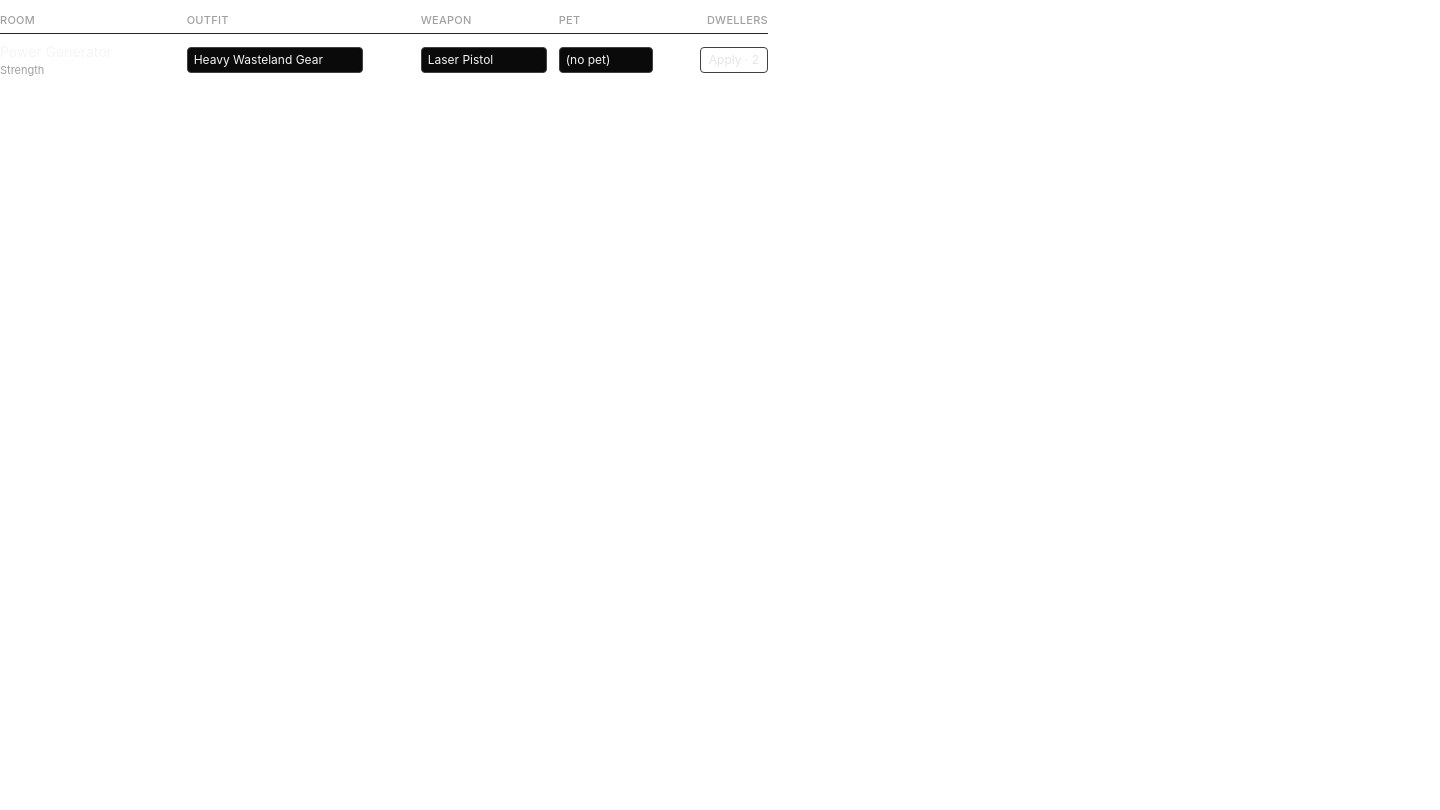
Test: LoadoutPanel - searchable pickers › opens the outfit picker with the Σ SPECIAL stat column and selects a different outfit
Click the button with aria-label "Power Generator outfit": click(275, 60) [187,47,363,73]
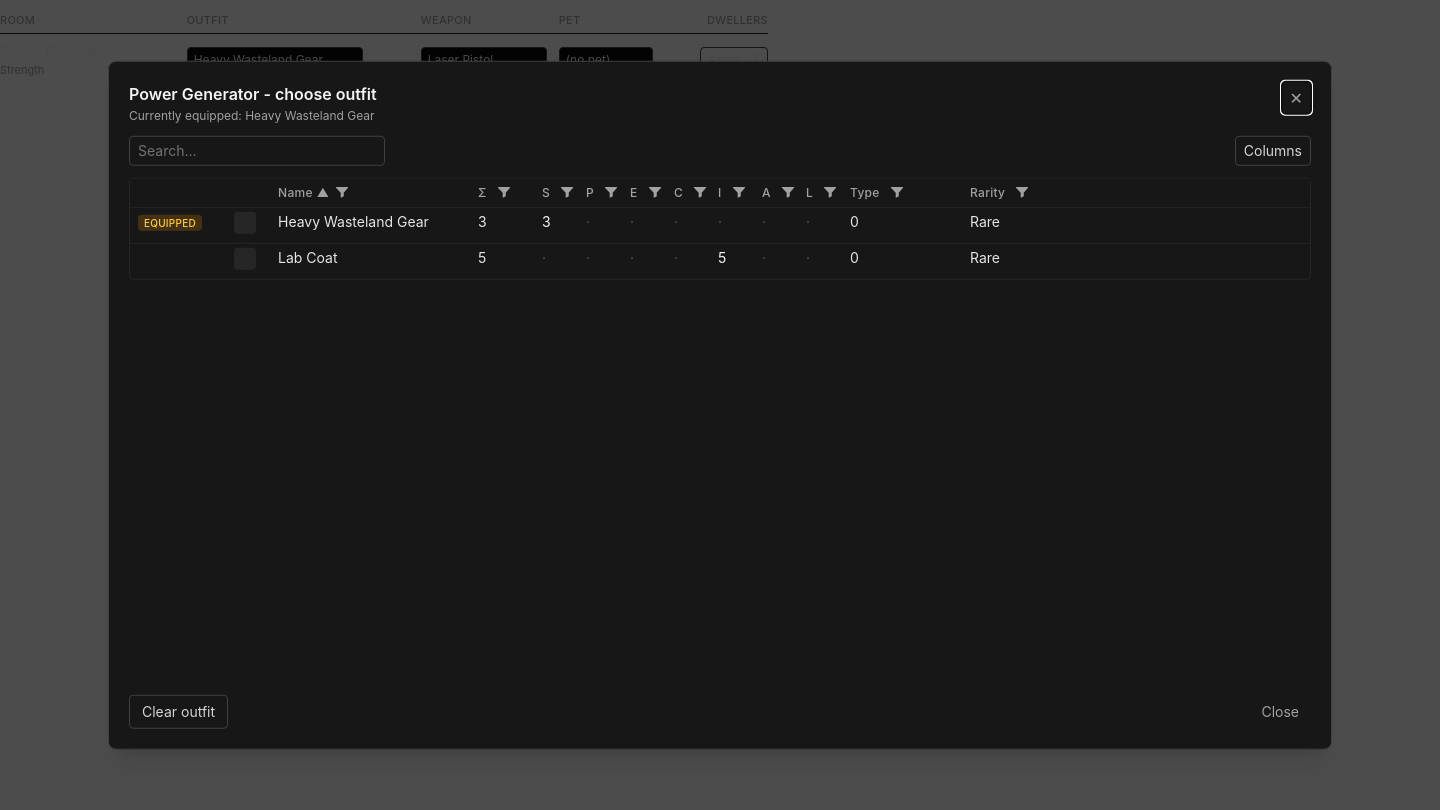
expect the button "Σ" is shown: met, box [478,185,491,201]
expect the text "Lab Coat" is shown: met
Click the text "Lab Coat": click(308, 257) [278,249,338,266]
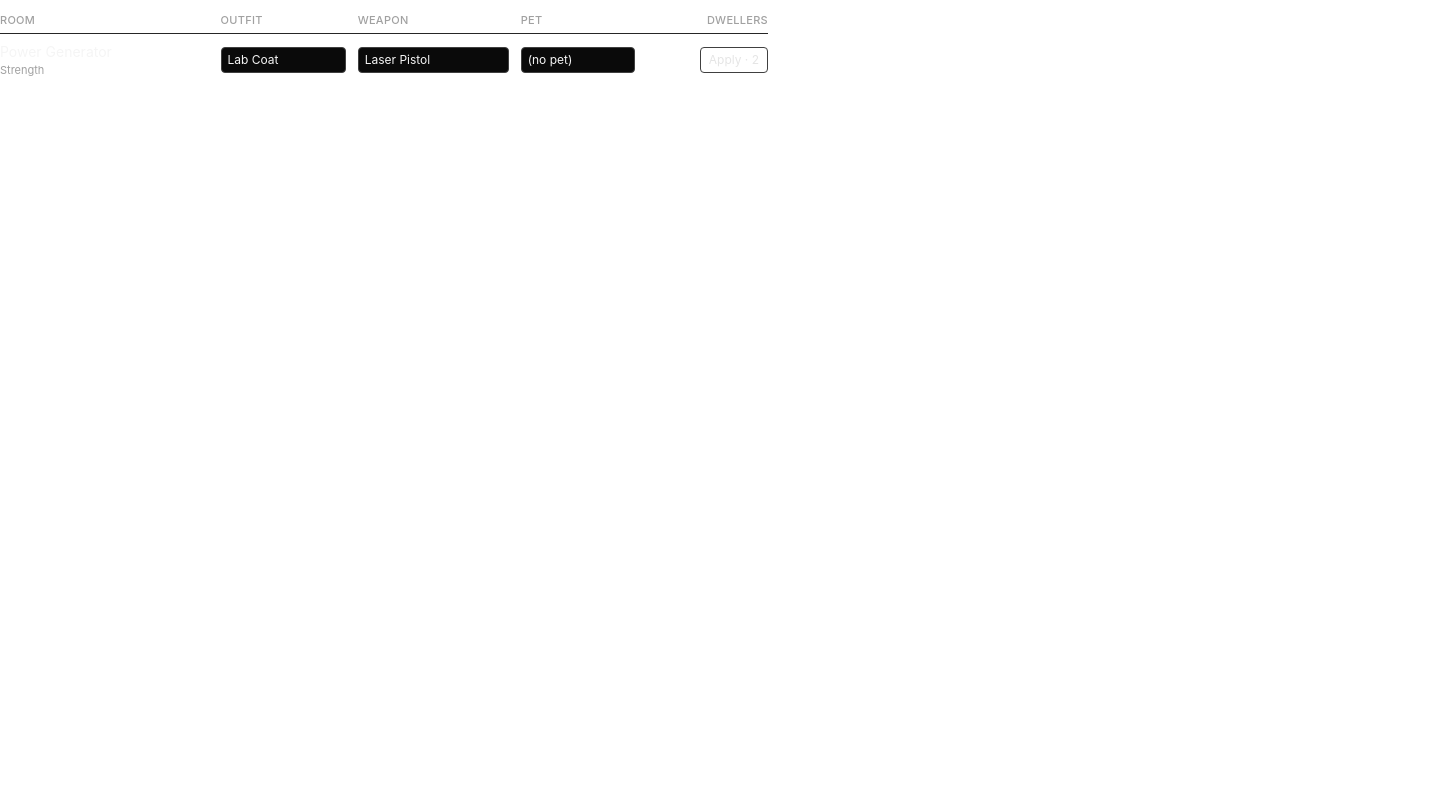
expect the button with aria-label "Power Generator outfit" reads "Lab Coat": met, box [220,47,346,73]
